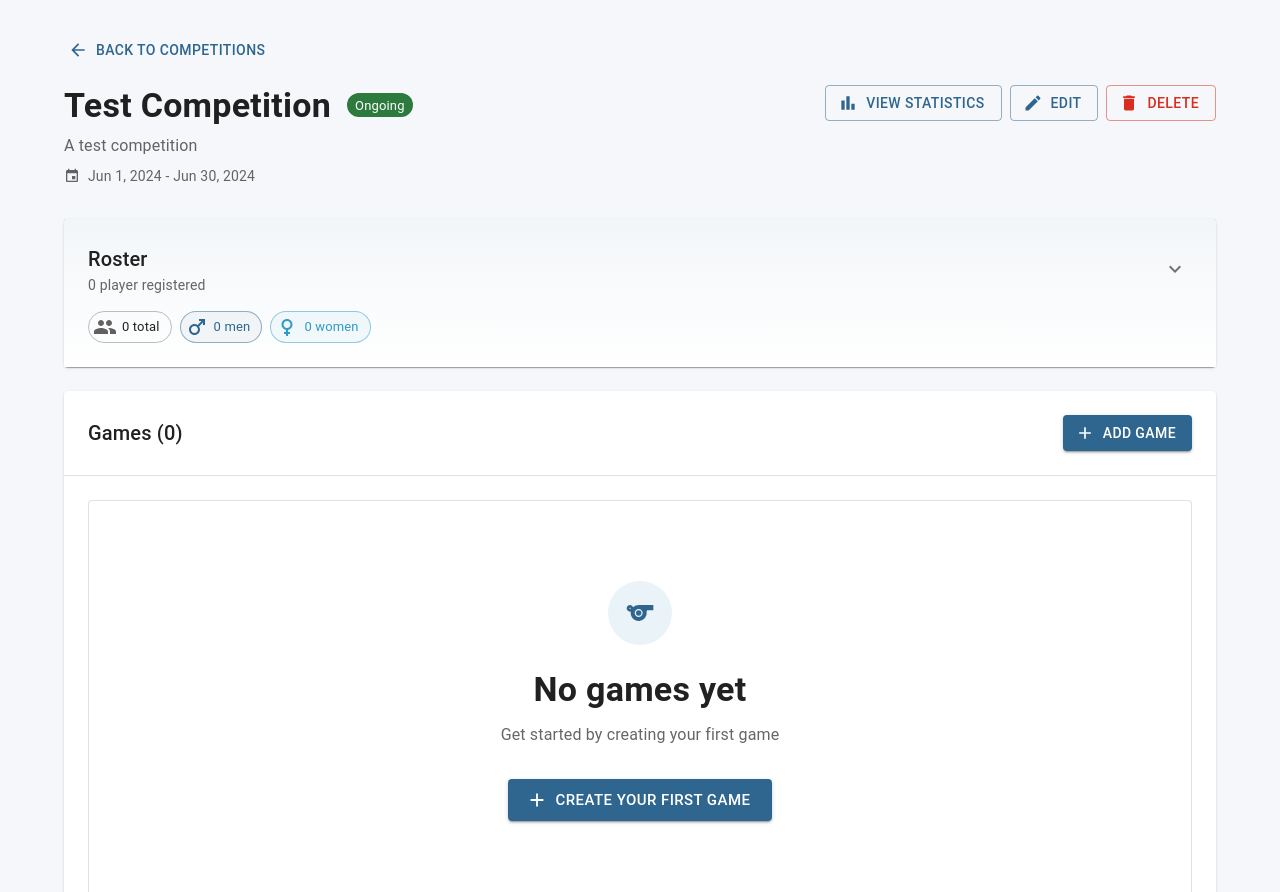
Test case: CompetitionDetailPage › allows adding players to roster
The width and height of the screenshot is (1280, 892).
Check: the heading "Test Competition" is shown, box 64,84 -> 331,126
Check: the text "0 player registered" is shown, box 88,274 -> 206,294
Step 1. Click the button named "show roster" → (1175, 268), box 1158,252 -> 1192,286
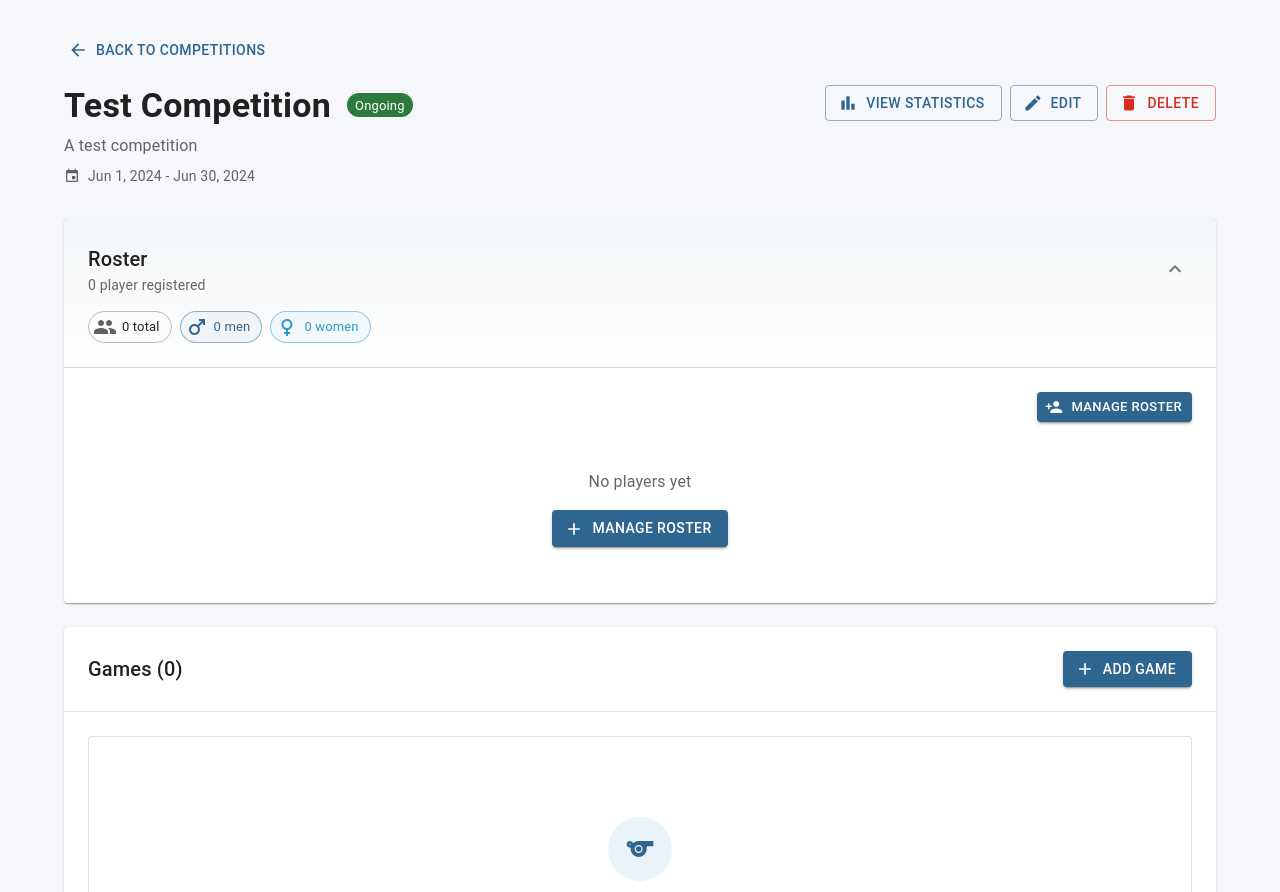
Note: Click "Manage Roster" button
Step 2. Click the 1st button "Manage Roster" → (1115, 407), box 1037,392 -> 1192,422
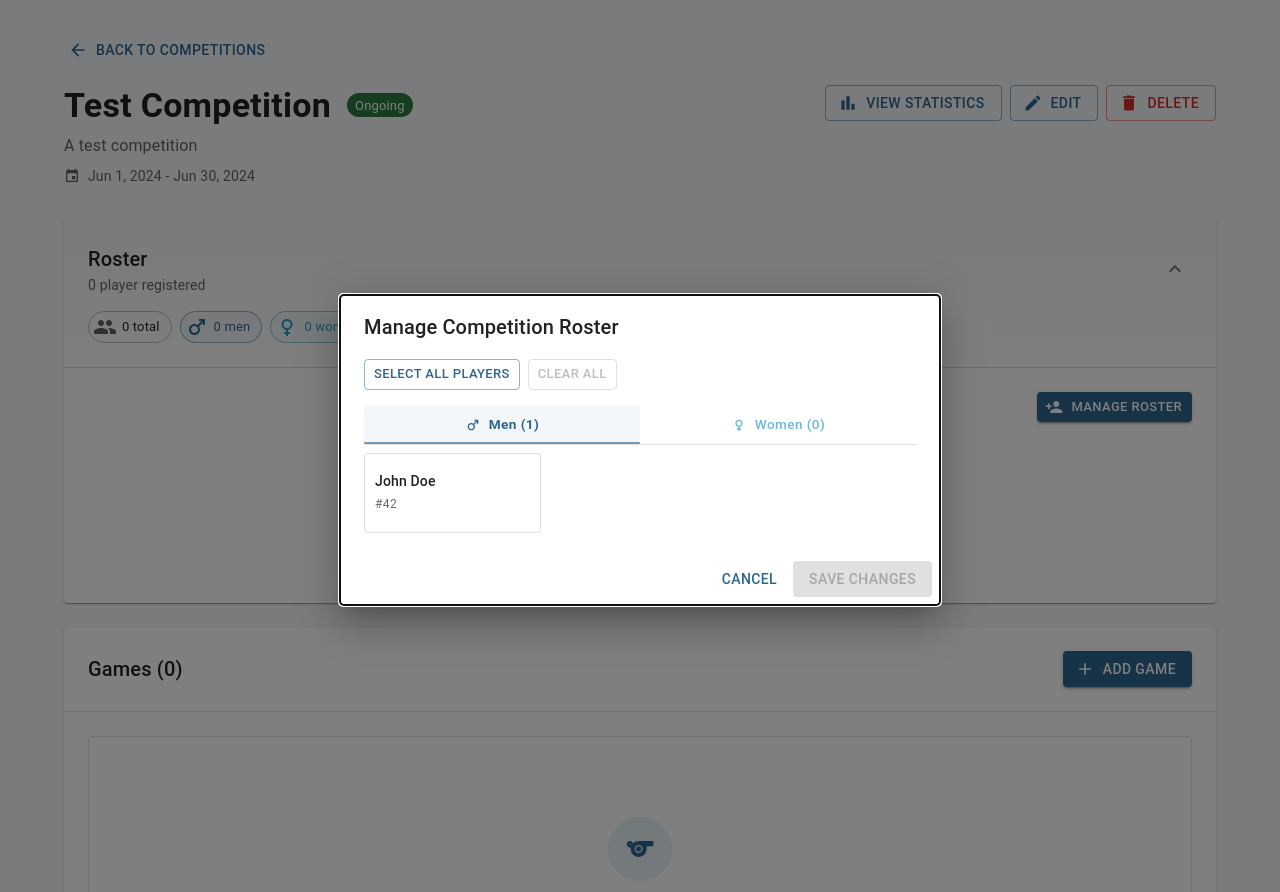
Check: the heading "Manage Competition Roster" is shown, box 364,315 -> 619,339
Check: the text "John Doe" is shown, box 375,471 -> 436,491
Note: Click on player name to select player
Step 3. Click the button "John Doe #42" → (453, 493), box 365,454 -> 540,532
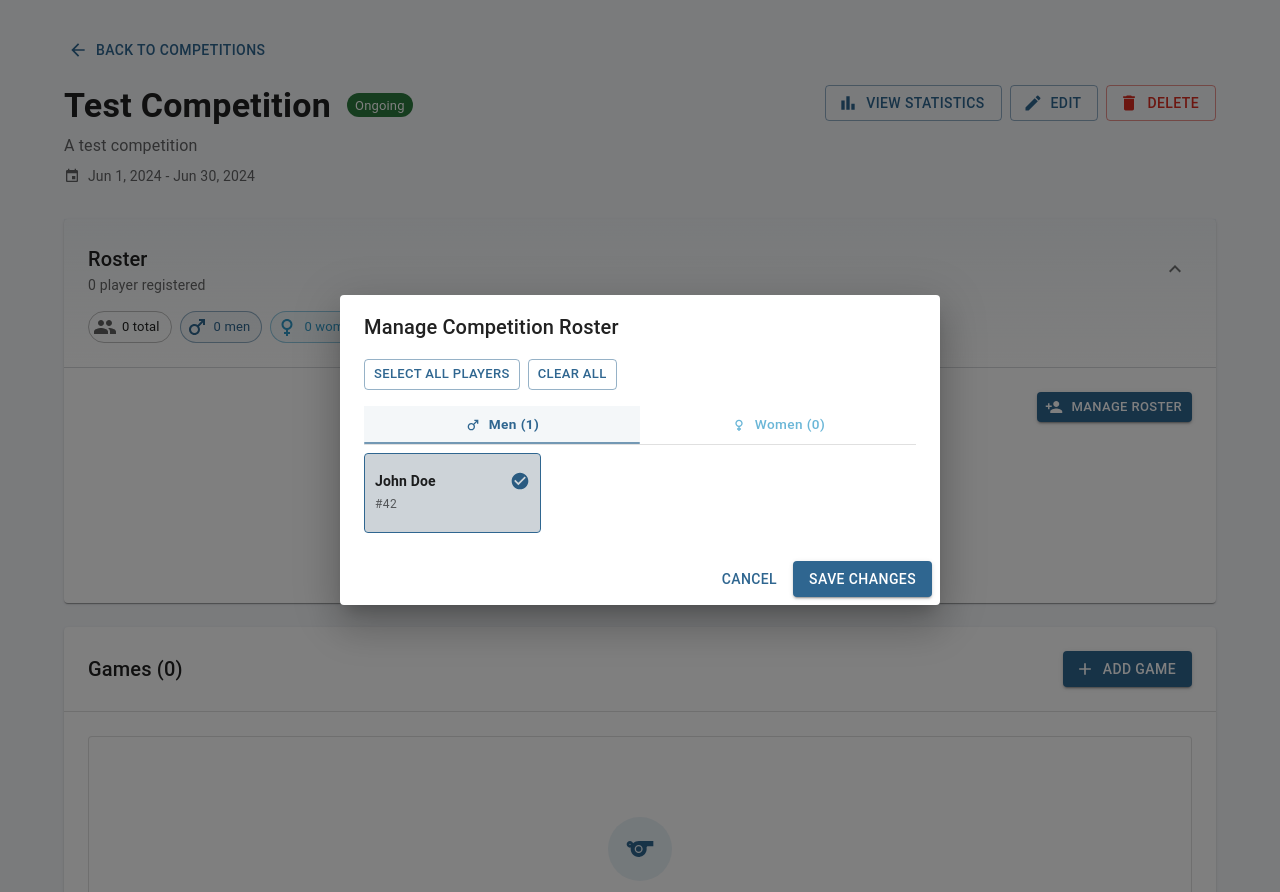
Note: Save roster changes
Step 4. Click the button "Save Changes" → (863, 579), box 793,561 -> 932,597
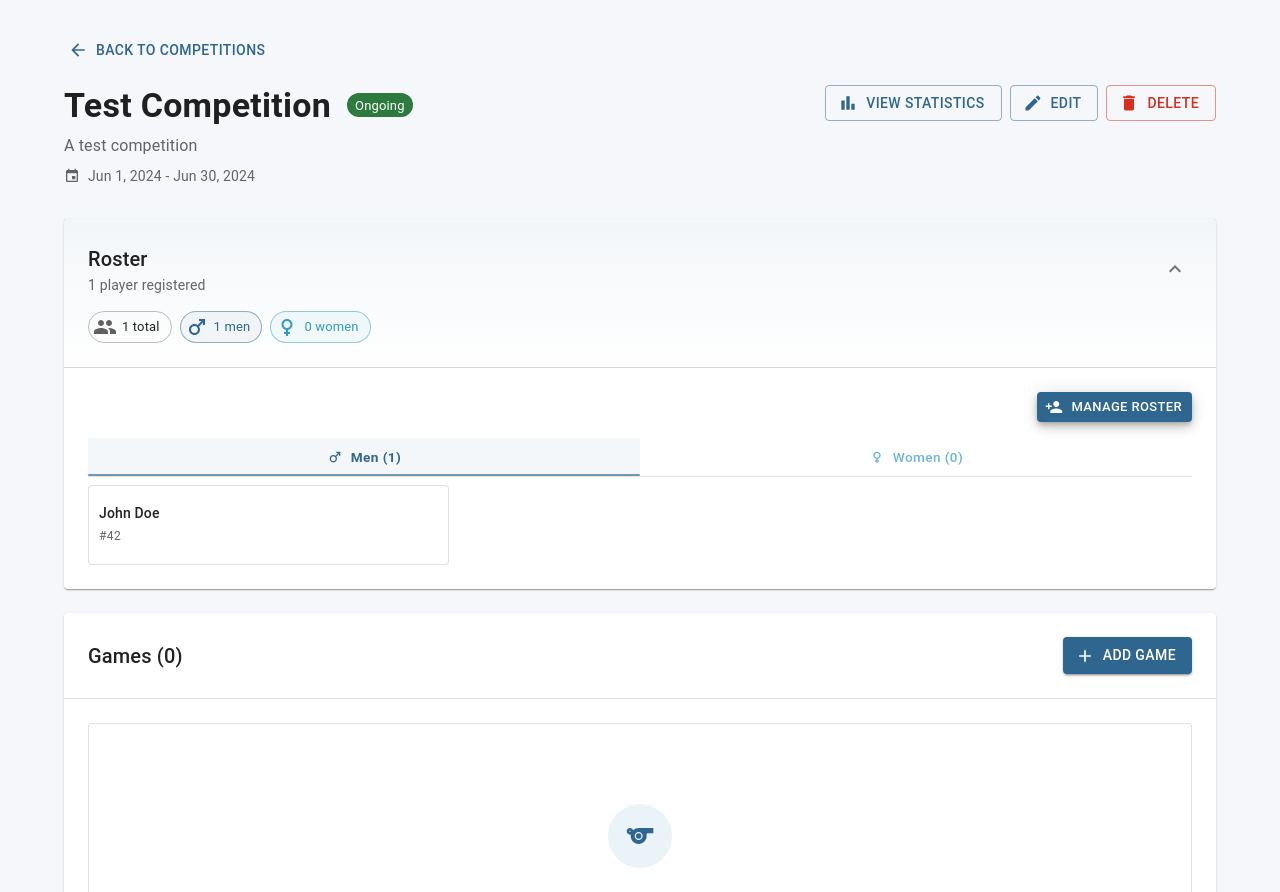
Check: the dialog is gone
Check: the text "1 player registered" is shown, box 88,274 -> 206,294
